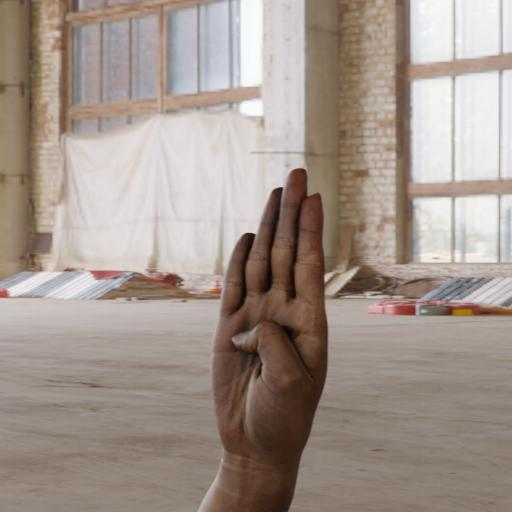B: (207, 164, 334, 469)
